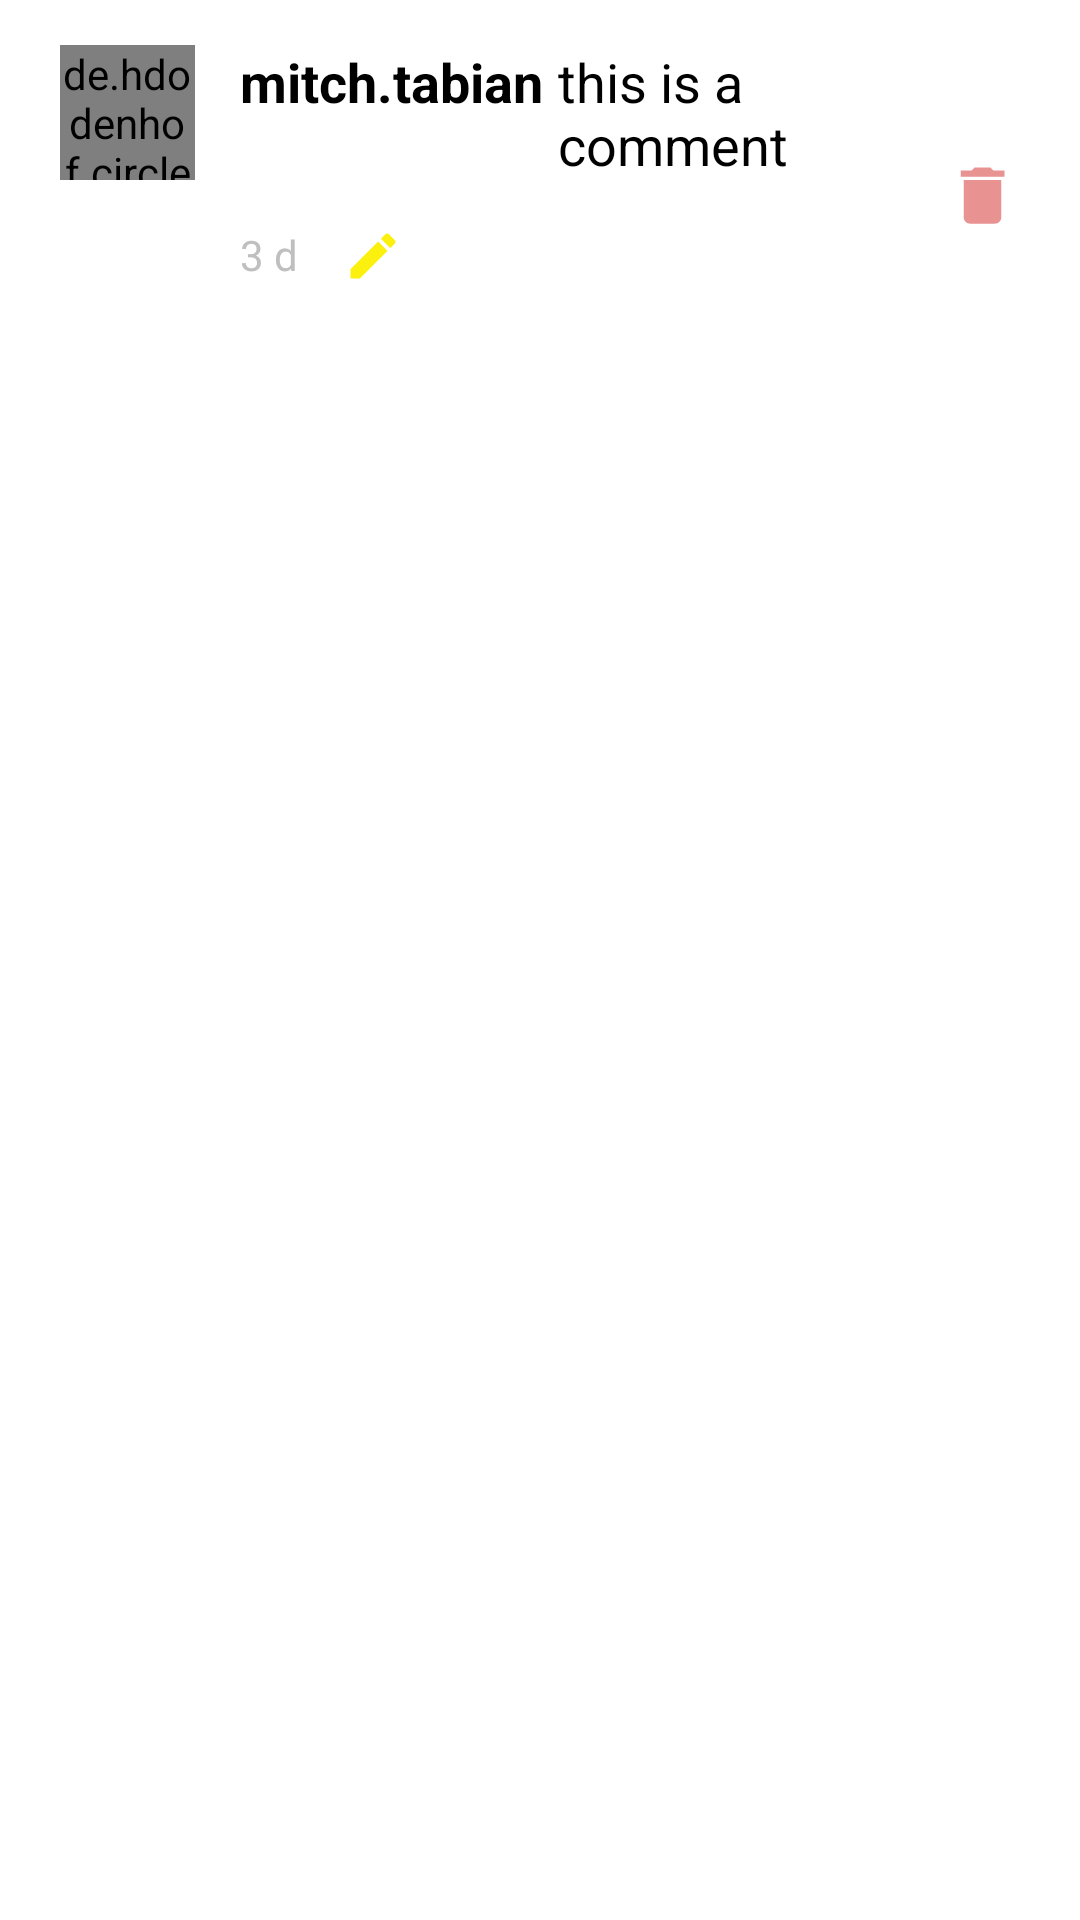

Icon click points for this 1080*1920 phone screenshot, format (x,y):
delete: (982,195)
edit: (373,256)
